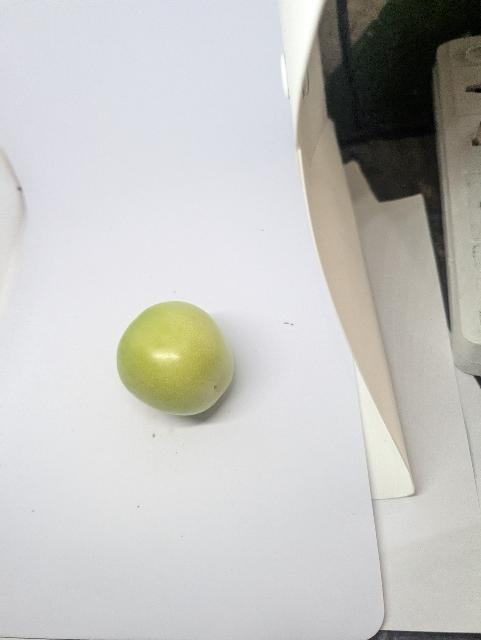green: (113, 298, 238, 418)
